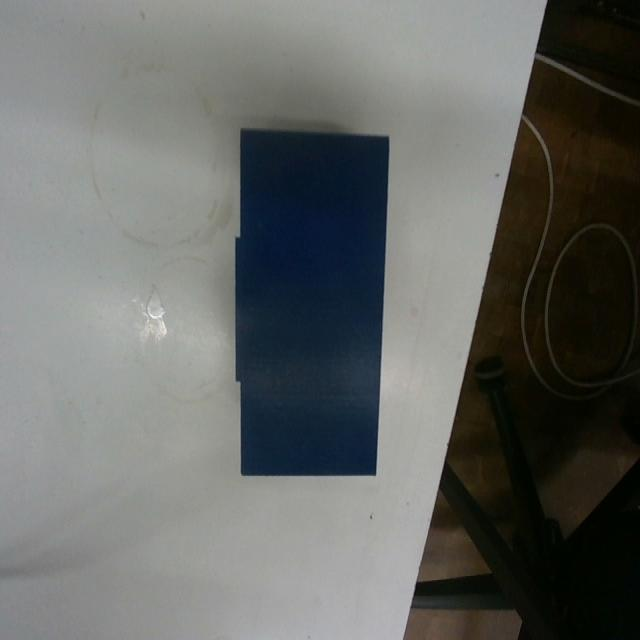Blue Cuboid: (233, 124, 391, 477)
